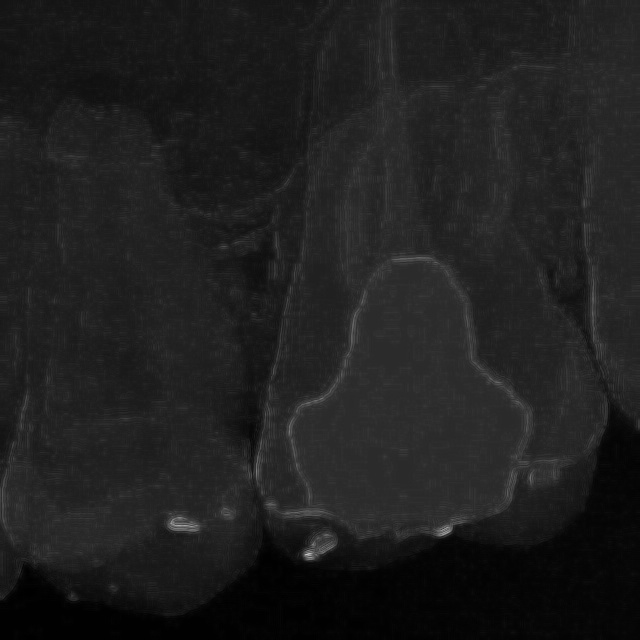Class 0- No endodontic treatment: (218, 4, 640, 578)
cavity: (4, 70, 328, 629)
